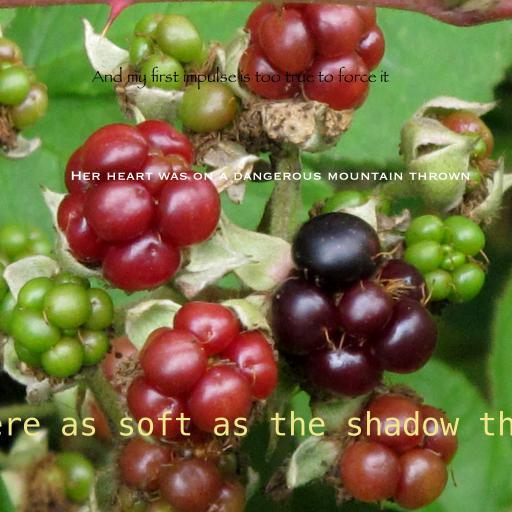Copperplate: (69, 171, 471, 180)
Menlo: (0, 411, 512, 443)
Papyrus: (91, 66, 389, 90)
